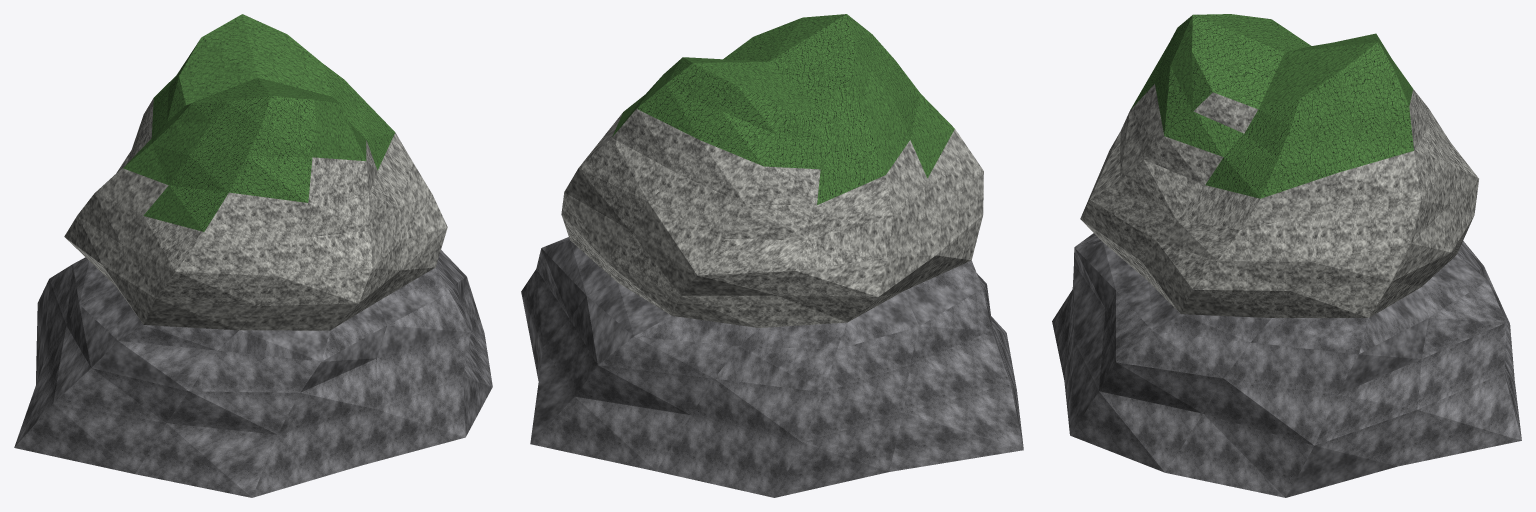
Rendered from sea_island.fbx.
3 views of the same model, side by side, from view 1: azimuth 30°, elevation 25°; view 2: azimuth 150°, elevation 25°; view 3: azimuth 270°, elevation 25° (orthographic). The views are drawn at different scales.
Visible parts, largest first — view 1: sea_island; view 2: sea_island; view 3: sea_island.
Part boxes in pixels (x1=…): sea_island: x1=14, y1=14, x2=492, y2=497; sea_island: x1=521, y1=14, x2=1023, y2=497; sea_island: x1=1052, y1=14, x2=1521, y2=497.
Size of the model in its own units: 1449 by 987 by 1188.
